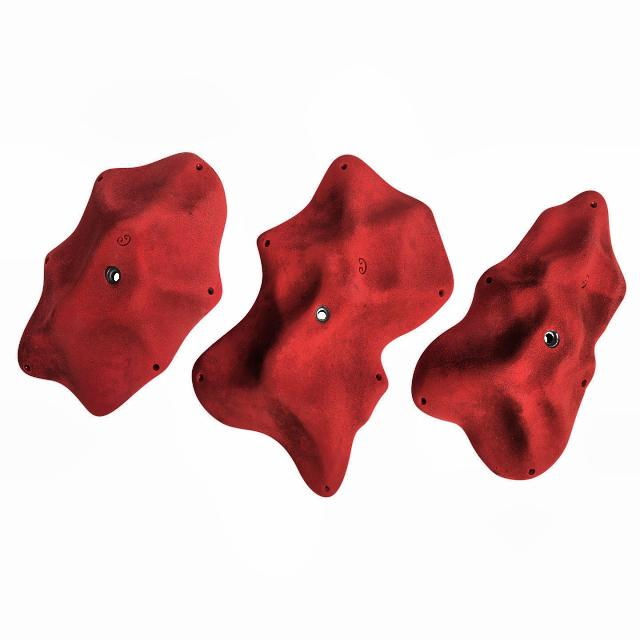Hold: (166, 121, 493, 533), (396, 173, 632, 496), (22, 152, 225, 418)
